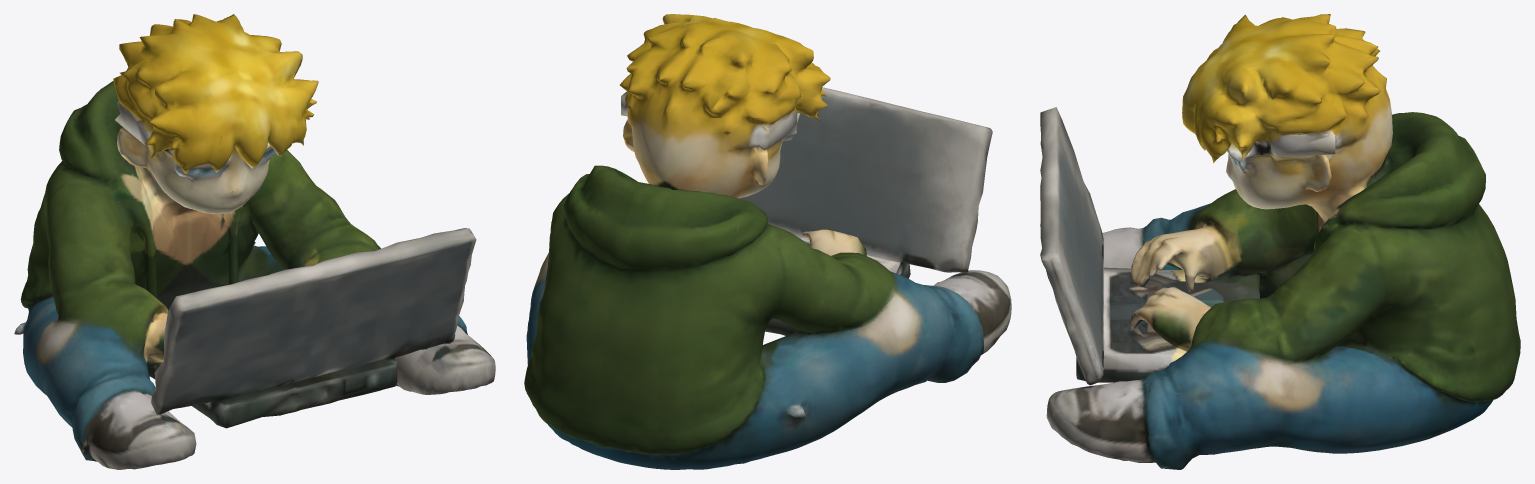
The picture shows the model from 3 angles, left to right: view 1: azimuth 30°, elevation 25°; view 2: azimuth 150°, elevation 25°; view 3: azimuth 270°, elevation 25°; orthographic projection. The views are drawn at different scales.
Parts seen in each view (by area): view 1: model; view 2: model; view 3: model.
Boxes of the visible parts, x1,y1,x2,y2 form: model: (14,14,495,469); model: (524,14,1011,469); model: (1040,14,1520,469).
Size of the model in its own units: 1.82 by 1.62 by 1.89.
1 material, 1 textured.
